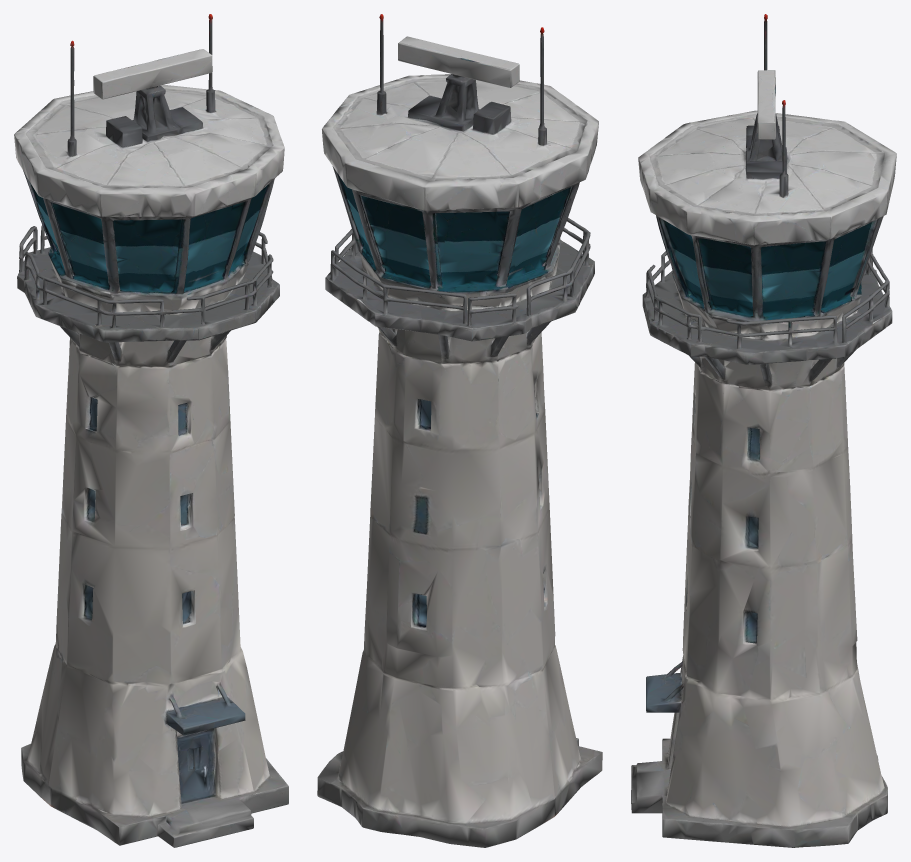
The model's file is control-tower.glb.
The picture shows the model from 3 angles, left to right: view 1: azimuth 30°, elevation 25°; view 2: azimuth 150°, elevation 25°; view 3: azimuth 270°, elevation 25°; orthographic projection. The views are drawn at different scales.
Bounding box in the file's own units: 0.6126 × 1.9 × 0.6144.
Materials: 1 (1 with a texture image).
